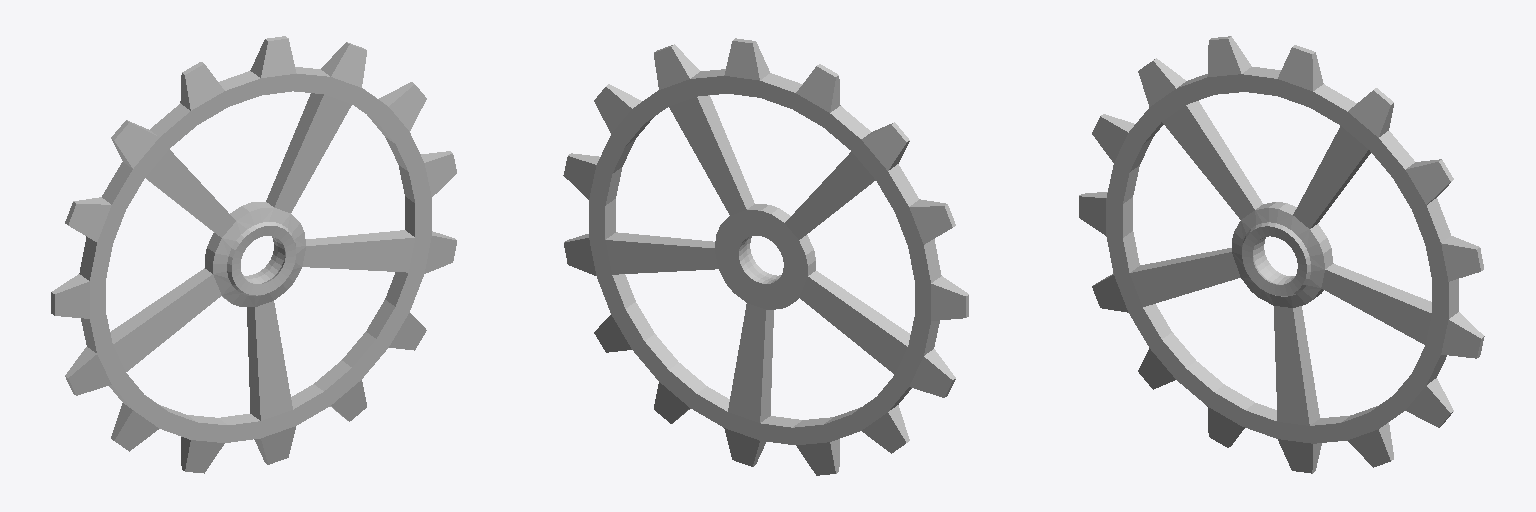
The model's file is gear.obj.
3 views of the same model, side by side, from view 1: azimuth 30°, elevation 25°; view 2: azimuth 150°, elevation 25°; view 3: azimuth 330°, elevation 25° (orthographic).
Parts seen in each view (by area): view 1: Cylinder.001_Cylinder.004; view 2: Cylinder.001_Cylinder.004; view 3: Cylinder.001_Cylinder.004.
Boxes of the visible parts, box(x1,y1,x2,y2) form: Cylinder.001_Cylinder.004: box(51, 36, 456, 473); Cylinder.001_Cylinder.004: box(563, 38, 968, 475); Cylinder.001_Cylinder.004: box(1079, 36, 1484, 473).
Bounding box in the file's own units: 43.14 × 43.38 × 2.5.